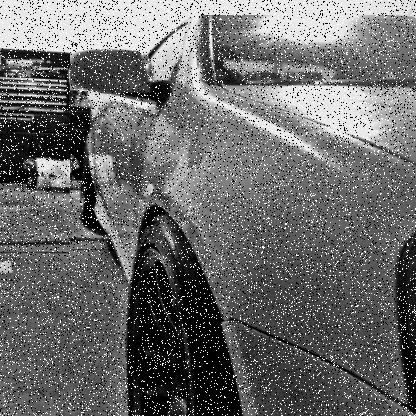Car: (69, 14, 415, 415)
